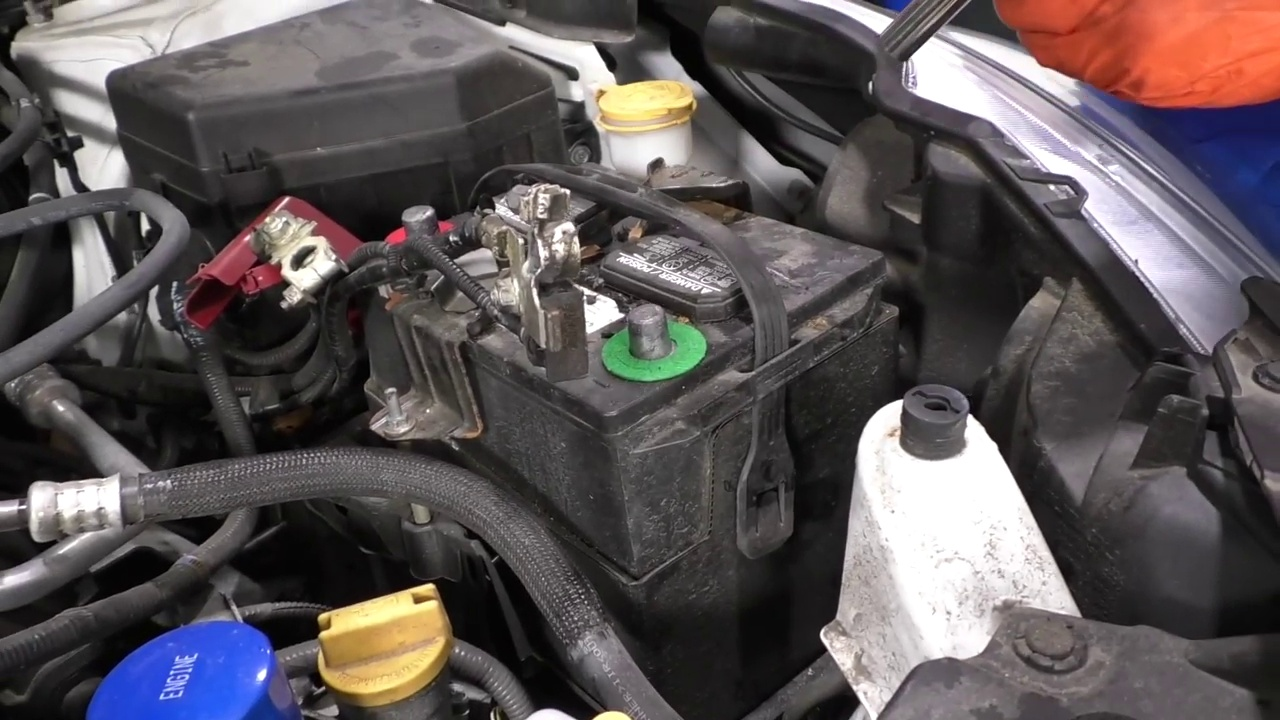battery: (367, 143, 868, 389)
neg_disconnected: (592, 281, 709, 390)
pos_disconnected: (202, 172, 478, 331)
